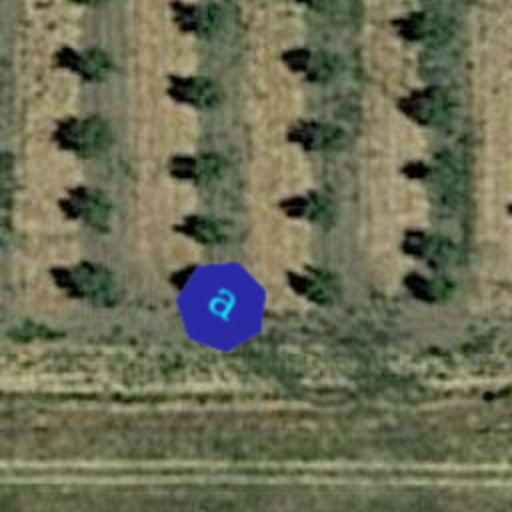heptagon: (156, 240, 288, 372)
